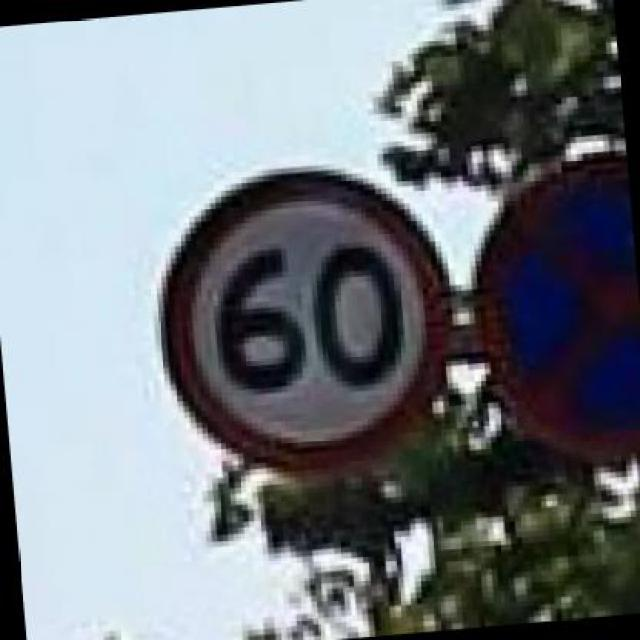Limite-60: (156, 162, 456, 476)
